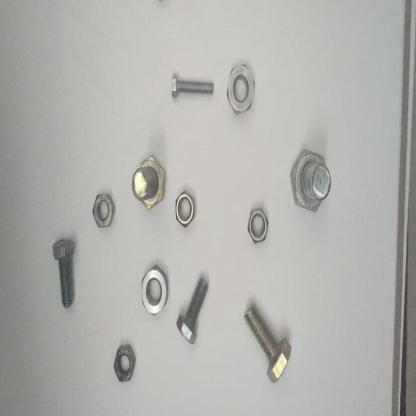Bolts: (239, 294, 294, 385), (283, 140, 333, 225), (175, 266, 215, 352), (47, 232, 83, 318), (130, 149, 168, 221), (166, 66, 218, 110)
NUTS: (137, 259, 170, 324), (223, 58, 258, 116), (168, 183, 206, 232), (91, 189, 124, 237), (110, 341, 141, 387), (245, 198, 274, 247)
